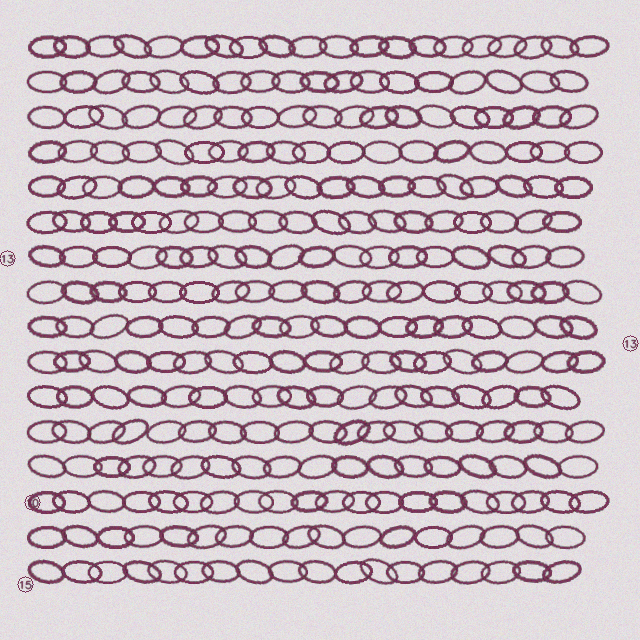chain: (107, 413, 154, 450), (355, 553, 402, 590), (432, 168, 478, 205), (151, 134, 198, 170), (439, 344, 486, 379), (329, 414, 374, 450), (109, 29, 155, 64), (263, 239, 309, 274), (86, 309, 132, 344), (454, 449, 500, 484), (519, 449, 565, 484), (307, 205, 354, 239), (481, 65, 527, 99), (85, 100, 131, 134), (537, 380, 583, 414), (443, 520, 489, 554), (220, 310, 265, 344), (448, 380, 494, 413), (201, 30, 246, 63), (556, 100, 601, 133), (511, 205, 556, 238), (484, 240, 529, 273), (478, 380, 523, 413), (304, 520, 349, 553), (176, 66, 222, 98), (559, 276, 605, 308), (334, 381, 380, 413), (89, 65, 133, 98), (512, 520, 556, 553), (232, 555, 276, 588), (445, 66, 490, 98), (180, 101, 225, 133), (281, 171, 326, 203), (448, 241, 493, 273), (201, 346, 246, 378), (88, 381, 133, 413), (84, 416, 129, 448), (279, 521, 324, 553), (119, 556, 164, 588), (539, 556, 584, 588), (499, 101, 543, 133), (556, 311, 600, 343), (376, 521, 420, 553), (413, 101, 458, 132), (391, 381, 436, 412), (295, 451, 340, 482), (457, 486, 502, 517), (184, 521, 229, 552), (255, 31, 299, 62), (147, 66, 191, 97), (119, 101, 163, 132), (430, 136, 474, 167), (492, 171, 536, 202), (365, 206, 409, 237), (205, 241, 249, 272), (76, 346, 120, 377), (25, 451, 69, 482), (58, 521, 102, 552), (447, 102, 492, 132), (54, 172, 99, 202), (125, 242, 170, 272), (459, 312, 504, 342), (327, 347, 372, 377), (229, 452, 274, 482), (448, 557, 493, 587), (364, 451, 407, 482), (25, 556, 68, 587), (511, 32, 555, 62), (321, 67, 365, 97), (332, 102, 376, 132), (343, 172, 387, 202), (502, 347, 546, 377), (274, 382, 318, 412), (144, 417, 188, 447), (168, 452, 212, 482), (509, 242, 554, 271), (198, 452, 243, 481), (145, 557, 190, 586), (538, 32, 581, 62), (58, 277, 101, 307), (209, 277, 252, 307), (366, 382, 409, 412), (460, 32, 504, 61), (485, 32, 529, 61), (547, 67, 591, 96), (61, 102, 105, 131), (275, 102, 319, 131), (157, 207, 201, 236), (330, 242, 374, 271), (298, 277, 342, 306), (531, 312, 575, 341), (159, 382, 203, 411), (49, 417, 93, 446), (538, 487, 582, 516), (416, 557, 460, 586), (382, 102, 425, 131), (232, 242, 275, 271), (331, 277, 374, 306), (266, 347, 309, 376), (221, 382, 264, 411), (474, 417, 517, 446), (115, 452, 158, 481), (486, 452, 529, 481), (296, 557, 339, 586), (377, 68, 421, 96), (518, 68, 562, 96), (155, 103, 199, 131), (254, 173, 298, 201), (381, 418, 425, 446), (26, 242, 68, 271), (308, 312, 350, 341), (112, 347, 154, 376), (387, 347, 429, 376), (142, 33, 185, 61), (357, 103, 400, 131), (88, 138, 131, 166), (264, 138, 307, 166), (25, 278, 68, 306), (384, 278, 427, 306), (171, 348, 214, 376), (411, 348, 454, 376), (418, 383, 461, 411), (272, 418, 315, 446), (563, 418, 606, 446), (261, 453, 304, 481), (198, 488, 241, 516), (340, 523, 383, 551), (332, 558, 375, 586), (479, 558, 522, 586), (521, 173, 565, 200), (156, 313, 200, 340), (25, 383, 69, 410), (146, 488, 190, 515), (376, 33, 418, 61), (467, 138, 509, 166), (336, 208, 378, 236), (296, 243, 338, 271), (496, 313, 538, 341), (539, 348, 581, 376), (206, 418, 248, 446), (355, 418, 397, 446), (317, 33, 360, 60), (301, 103, 344, 130), (56, 138, 99, 165), (50, 208, 93, 235), (278, 313, 321, 340), (431, 313, 474, 340), (125, 383, 168, 410), (412, 418, 455, 445), (50, 488, 93, 515), (313, 488, 356, 515), (567, 488, 610, 515), (157, 523, 200, 550), (478, 523, 521, 550), (60, 558, 103, 585), (510, 558, 553, 585), (51, 33, 93, 60), (348, 33, 390, 60), (568, 33, 610, 60), (26, 138, 68, 165), (392, 208, 434, 235), (423, 208, 465, 235), (505, 278, 547, 305), (403, 313, 445, 340), (469, 348, 511, 375), (176, 418, 218, 445), (307, 418, 349, 445), (502, 418, 544, 445), (329, 453, 371, 480), (392, 453, 434, 480), (85, 488, 127, 515), (509, 488, 551, 515), (213, 523, 255, 550), (25, 209, 68, 235), (231, 349, 274, 375), (360, 349, 403, 375), (407, 33, 448, 60), (565, 348, 606, 375), (289, 488, 330, 515), (427, 488, 468, 515), (200, 558, 241, 585), (432, 34, 474, 60), (120, 69, 162, 95), (211, 69, 253, 95), (298, 69, 340, 95), (212, 104, 254, 130), (325, 139, 367, 165), (361, 139, 403, 165), (81, 174, 123, 200), (206, 174, 248, 200), (231, 174, 273, 200), (406, 174, 448, 200), (458, 174, 500, 200), (178, 244, 220, 270), (358, 244, 400, 270), (544, 244, 586, 270), (481, 279, 523, 305), (26, 314, 68, 340), (54, 314, 96, 340), (190, 314, 232, 340), (250, 314, 292, 340), (26, 349, 68, 375), (532, 419, 574, 445), (544, 524, 586, 550), (287, 34, 328, 60), (26, 104, 67, 130), (236, 139, 277, 165), (116, 174, 157, 200), (151, 174, 192, 200), (315, 174, 356, 200), (277, 209, 318, 235), (154, 244, 195, 270), (88, 279, 129, 305), (529, 279, 570, 305), (124, 314, 165, 340), (342, 314, 383, 340), (512, 384, 553, 410), (422, 454, 463, 480), (239, 69, 281, 94), (207, 139, 249, 164), (397, 139, 439, 164), (247, 209, 289, 234), (234, 279, 276, 304), (267, 279, 309, 304), (26, 419, 68, 444), (61, 454, 103, 479), (141, 454, 183, 479), (557, 454, 599, 479), (257, 489, 299, 514), (84, 34, 125, 59), (179, 34, 220, 59), (58, 69, 99, 94), (270, 69, 311, 94), (349, 69, 390, 94), (531, 104, 572, 129), (387, 244, 428, 269), (361, 279, 402, 304), (421, 279, 462, 304), (302, 349, 343, 374), (251, 384, 292, 409), (444, 419, 485, 444), (233, 489, 274, 514), (123, 524, 164, 549), (267, 559, 308, 584), (26, 70, 68, 94), (183, 140, 225, 164), (529, 140, 571, 164), (130, 210, 172, 234), (178, 280, 220, 304), (172, 490, 214, 514), (485, 490, 527, 514), (248, 525, 290, 549), (87, 560, 129, 584), (173, 560, 215, 584), (27, 34, 67, 59), (27, 174, 67, 199), (179, 174, 219, 199), (377, 174, 417, 199), (217, 209, 257, 234), (479, 209, 519, 234), (52, 349, 92, 374), (55, 384, 95, 409), (305, 384, 345, 409), (228, 35, 269, 59), (413, 70, 454, 94), (240, 105, 281, 129), (473, 105, 514, 129), (121, 140, 162, 164), (291, 140, 332, 164), (183, 210, 224, 234), (452, 210, 493, 234), (541, 210, 582, 234), (58, 245, 99, 269), (91, 245, 132, 269), (117, 280, 158, 304), (147, 280, 188, 304), (377, 315, 418, 339), (145, 350, 186, 374), (187, 385, 228, 409), (239, 420, 280, 444), (121, 490, 162, 514), (364, 490, 405, 514), (397, 490, 438, 514), (26, 525, 67, 549), (413, 525, 454, 549), (385, 560, 426, 584), (504, 140, 544, 164), (563, 140, 603, 164), (553, 175, 593, 199), (79, 210, 119, 234), (107, 210, 147, 234), (415, 245, 455, 269), (453, 280, 493, 304), (92, 455, 132, 479), (27, 490, 67, 514), (341, 490, 381, 514), (95, 525, 135, 549)
noise: (620, 333, 640, 353), (15, 574, 35, 594), (22, 492, 42, 512), (0, 248, 17, 268)
